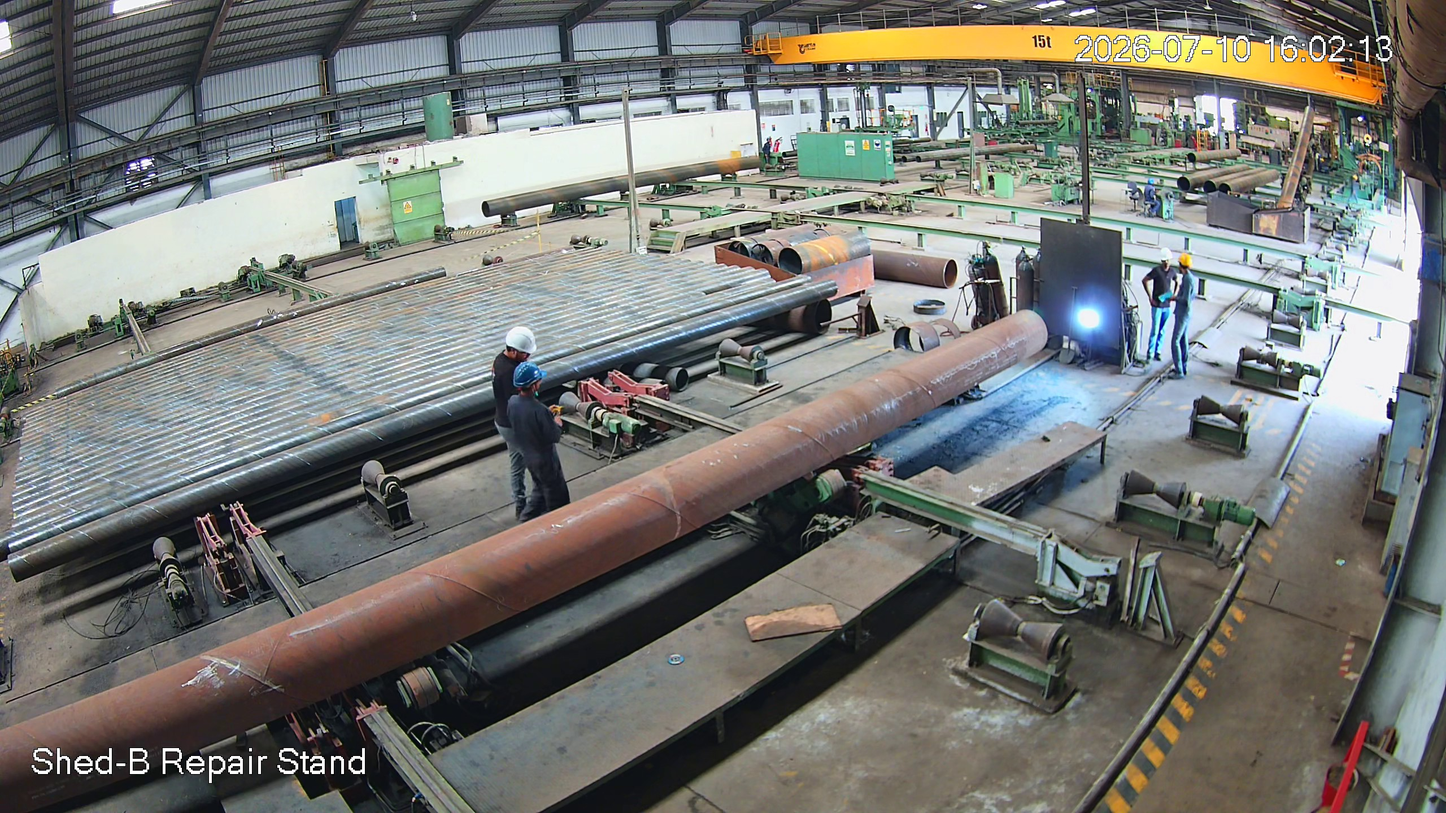Helmet: (500, 315, 545, 366), (513, 360, 548, 407), (1154, 244, 1182, 282), (1176, 250, 1196, 277)
Person: (509, 366, 578, 516), (487, 320, 538, 465), (1145, 246, 1178, 367), (1175, 251, 1195, 382)
